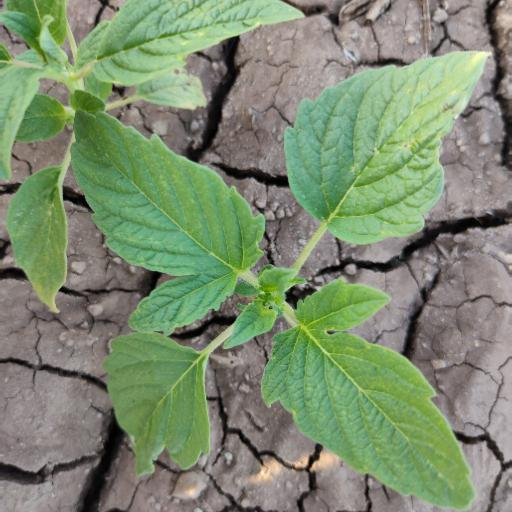crop: (54, 44, 491, 506)
